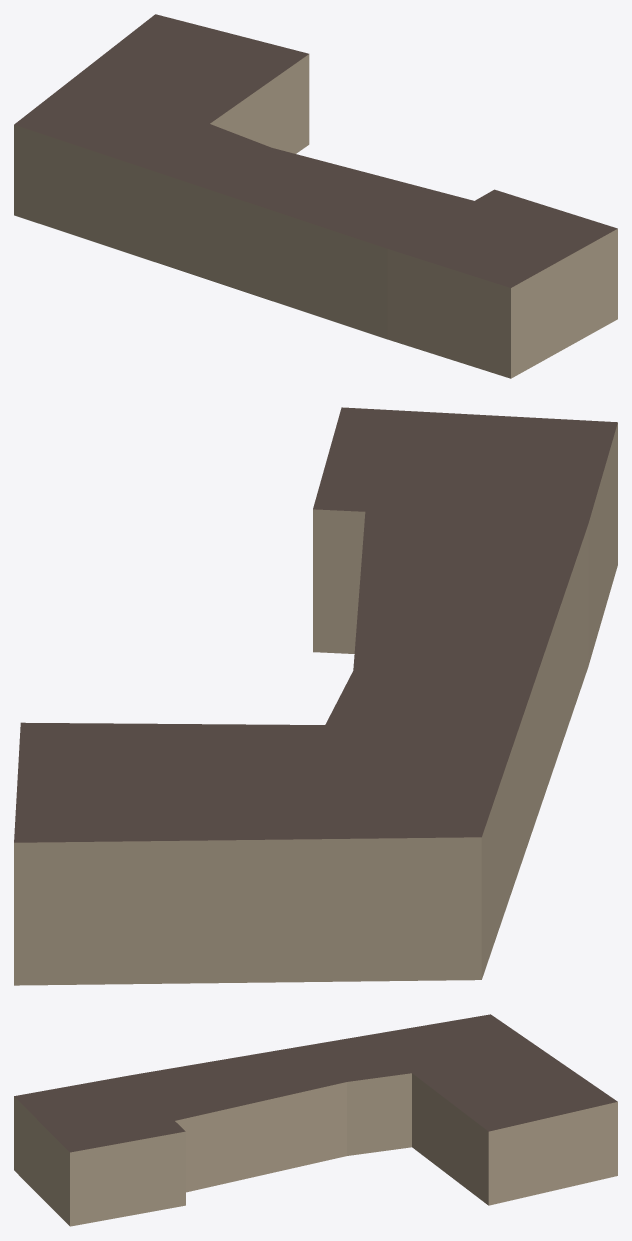
The picture shows the model from 3 angles, top to bottom: view 1: azimuth 30°, elevation 25°; view 2: azimuth 150°, elevation 25°; view 3: azimuth 270°, elevation 25°; orthographic projection. The views are drawn at different scales.
Parts seen in each view (by area): view 1: HP-w1201242655; view 2: HP-w1201242655; view 3: HP-w1201242655.
Boxes of the visible parts, x1,y1,x2,y2 form: HP-w1201242655: (14,14,617,378); HP-w1201242655: (14,407,617,985); HP-w1201242655: (14,1014,617,1226).
Bounding box in the file's own units: 35.99 × 9 × 66.48.
